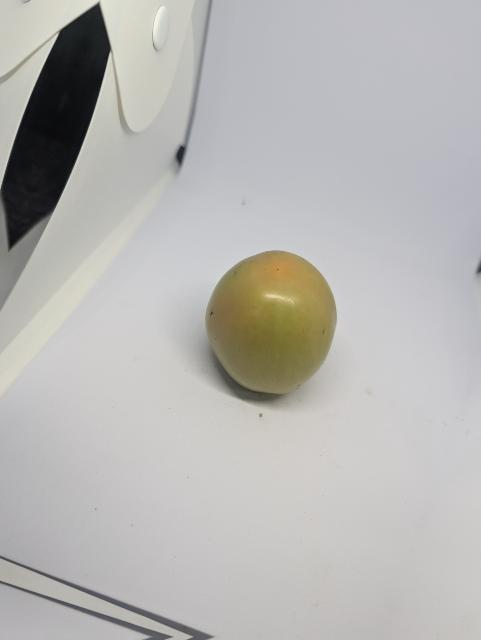breaker: (201, 249, 343, 397)
